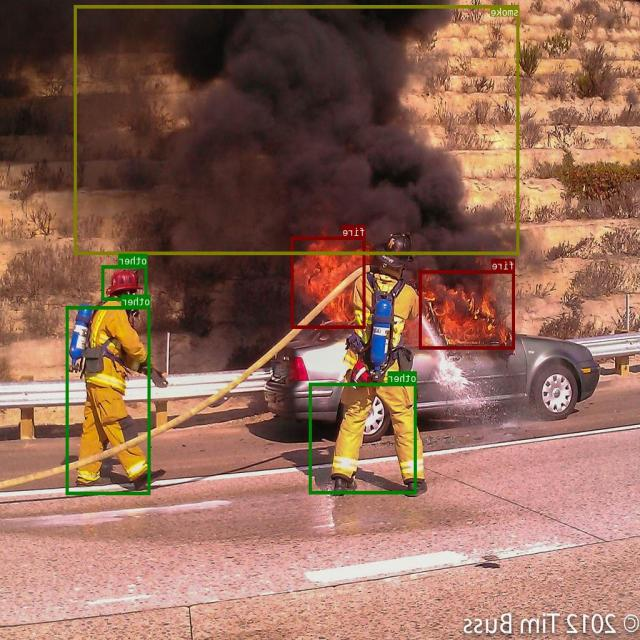fire: (420, 270, 515, 348), (292, 235, 366, 328)
other: (67, 306, 151, 494), (310, 382, 417, 494), (102, 265, 148, 300)
smoke: (74, 5, 520, 254)
